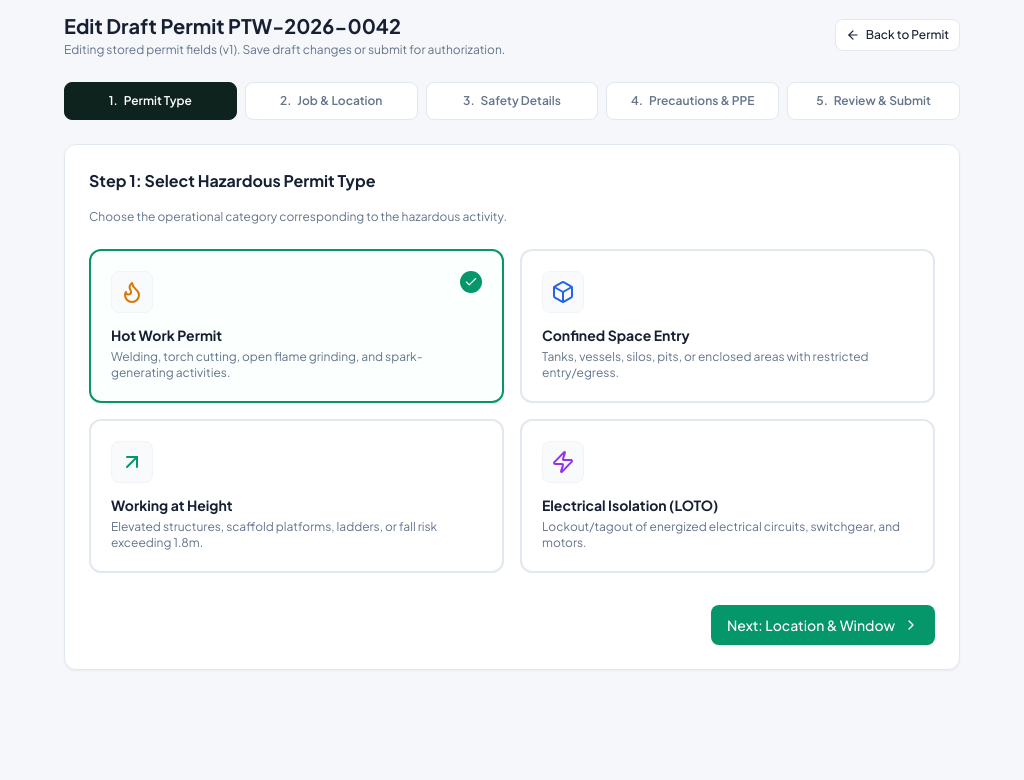
Test: Bug B UI Regression: EditPermitPage full draft hydration, version refresh, & step-level submit errors › jumps directly to Step 3 and displays field-level dynamic detail errors on submit
Expected: the heading "Edit Draft Permit PTW-2026-0042" is shown, [64,13,401,38]
What coordinates should you click on to do the following:
click the text "Review & Submit"
I would click on:
 (882, 101)
Its box is [834,93,931,109].
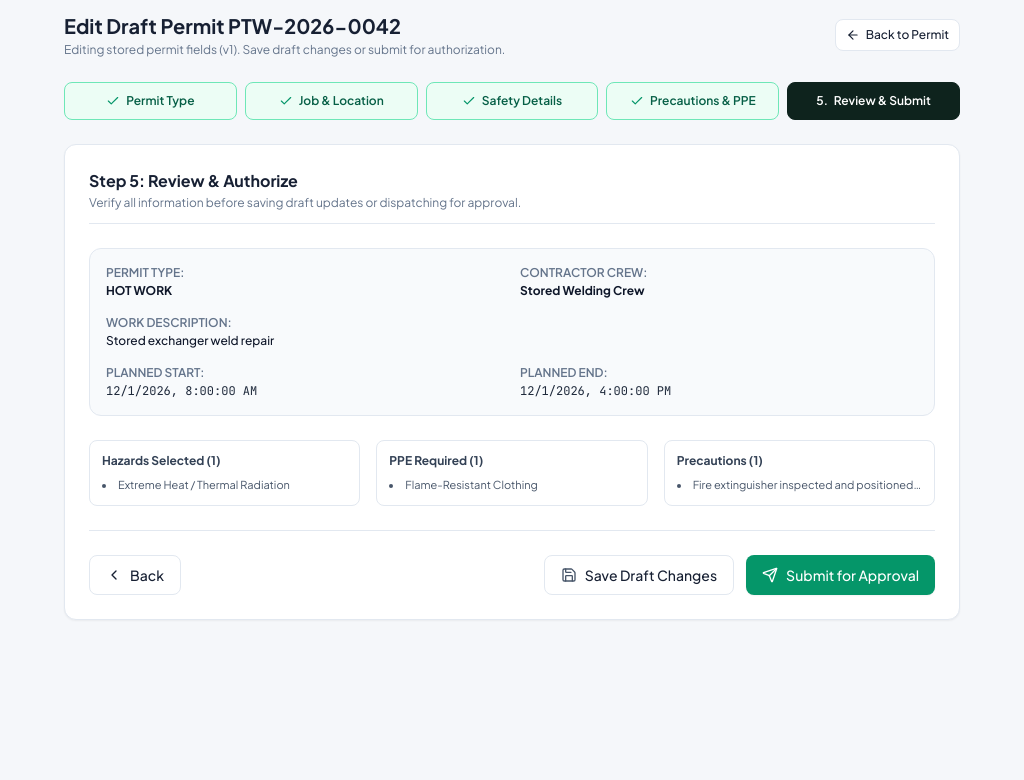
What coordinates should you click on to do the following:
click the button "Submit for Approval"
I would click on:
 (841, 575)
Its box is [746,555,935,595].
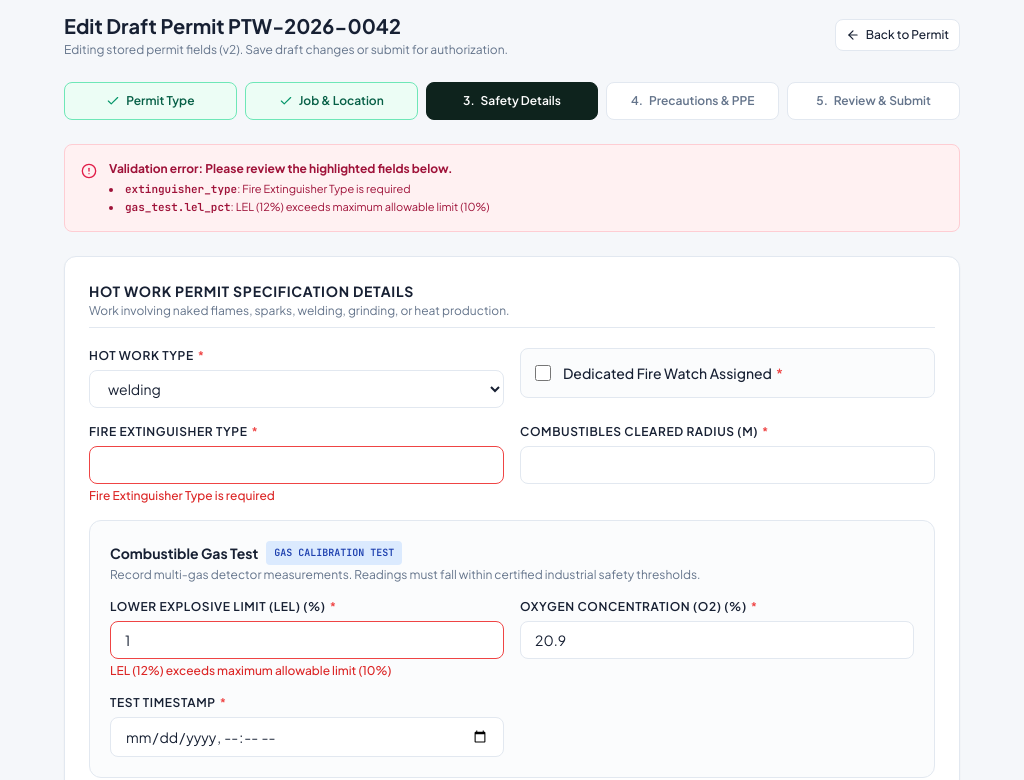
Expected: the heading "Hot Work Permit Specification Details" is shown, [89,282,414,300]
